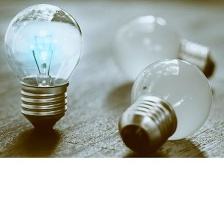light_bulb: (2, 2, 86, 139), (115, 55, 217, 158), (102, 10, 217, 83)
